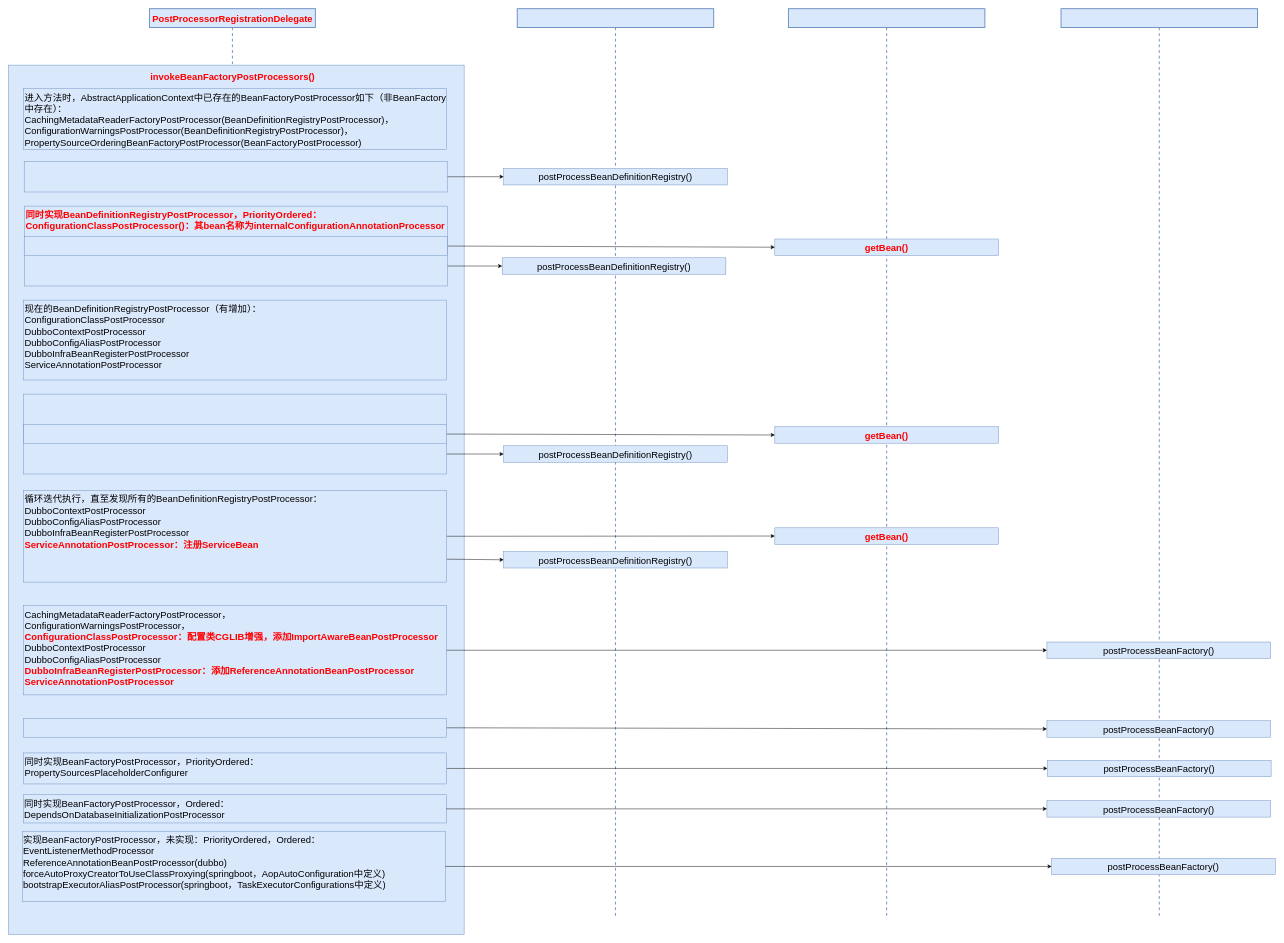
This 1284x943 diagram has some shape labels left out. The box of each missing label's shape, as (x1, y1, x2, y2) in pixels:
BeanDefinitionRegistryPostProcessor: (517, 8, 714, 916)
BeanFactoryPostProcessor: (1060, 8, 1258, 916)
CachingMetadataReaderFactoryPostProcessor ， ConfigurationWarningsPostProcessor ，: (24, 161, 447, 192)
DefaultListableBeanFactory: (788, 8, 985, 916)
PropertySourceOrderingBeanFactoryPostProcessor: (23, 718, 447, 737)
同时实现BeanDefinitionRegistryPostProcessor，Ordered：无: (23, 394, 447, 474)
